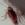cockroach: (8, 6, 18, 24)
